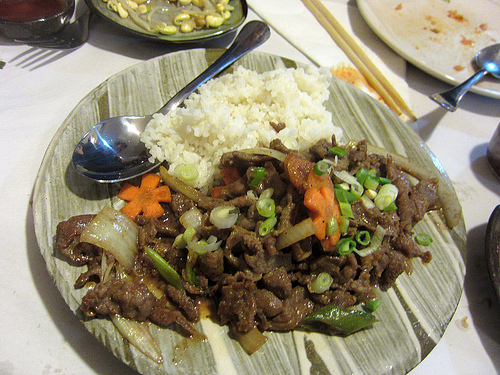bulgogi: (52, 148, 445, 336)
